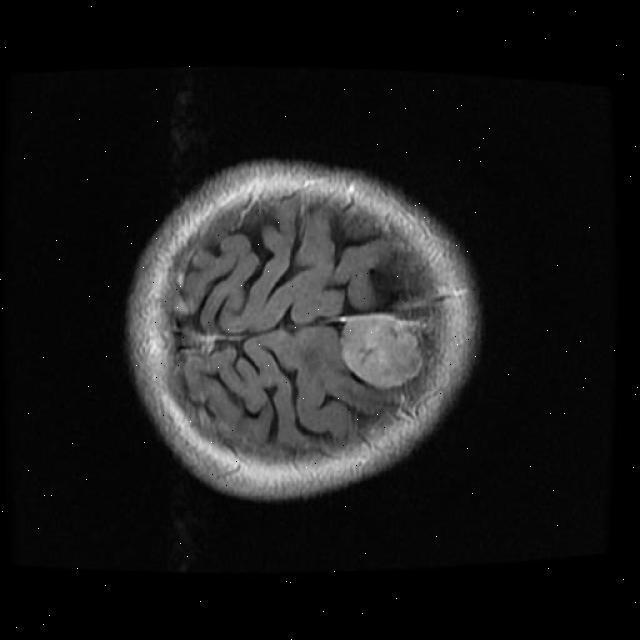Meningioma: (342, 315, 422, 389)
